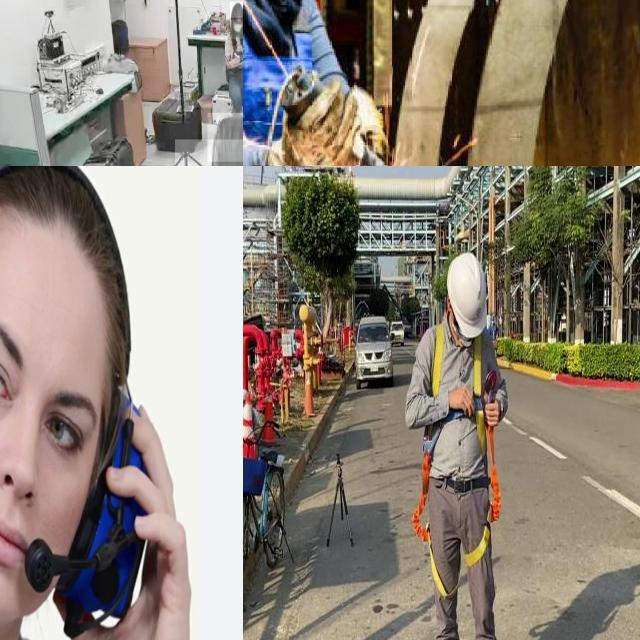Ear-protection: (0, 166, 151, 640)
Harness: (464, 336, 502, 568), (412, 425, 459, 598)
No_Glasses: (0, 294, 89, 475)
face_mask: (231, 19, 243, 38)
head_nohelmet: (207, 112, 243, 162), (230, 1, 243, 18)
person: (243, 0, 363, 166), (222, 1, 243, 126)
